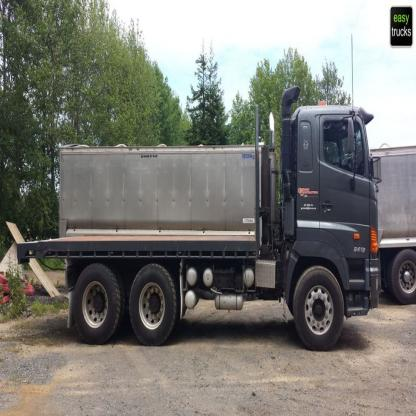dump_truck: (20, 72, 393, 350)
